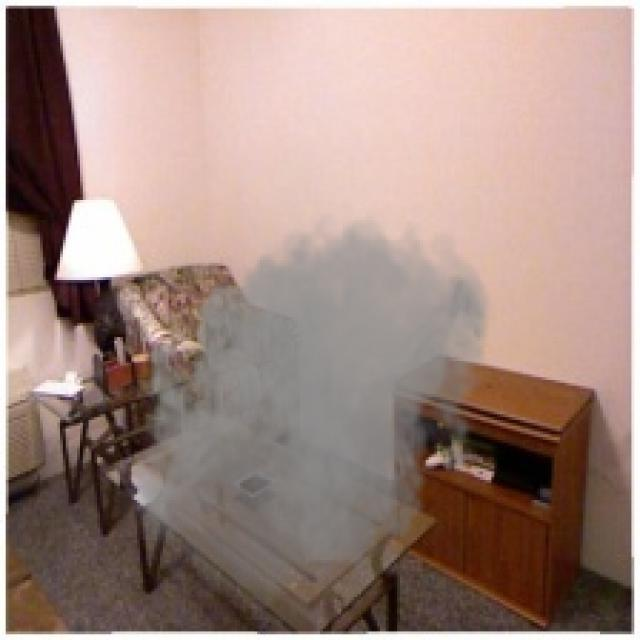smoke: (120, 206, 497, 623)
